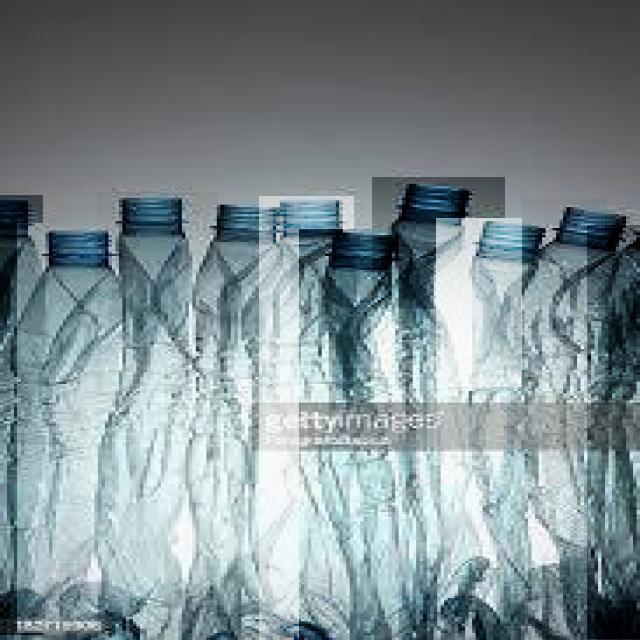good: (372, 177, 505, 639), (436, 218, 578, 640), (97, 192, 218, 640), (299, 229, 427, 640), (17, 223, 144, 633), (171, 204, 285, 640), (259, 196, 354, 640), (522, 199, 607, 640), (587, 225, 640, 639), (0, 195, 43, 635)
